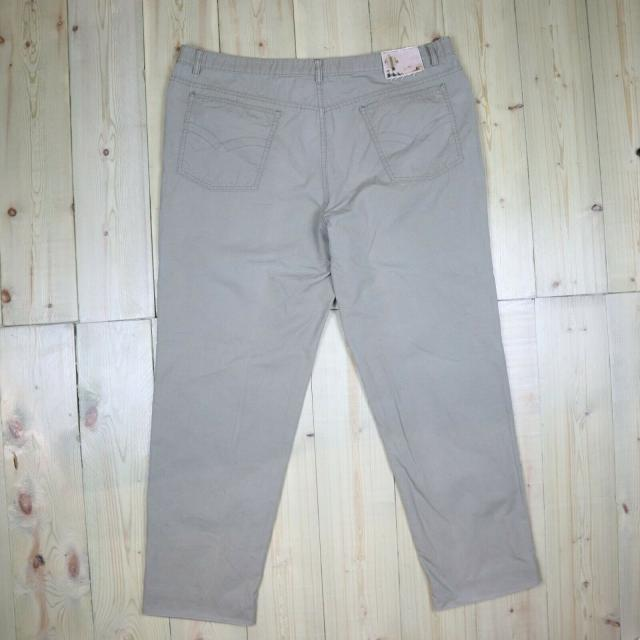long-pants: (141, 37, 546, 621)
